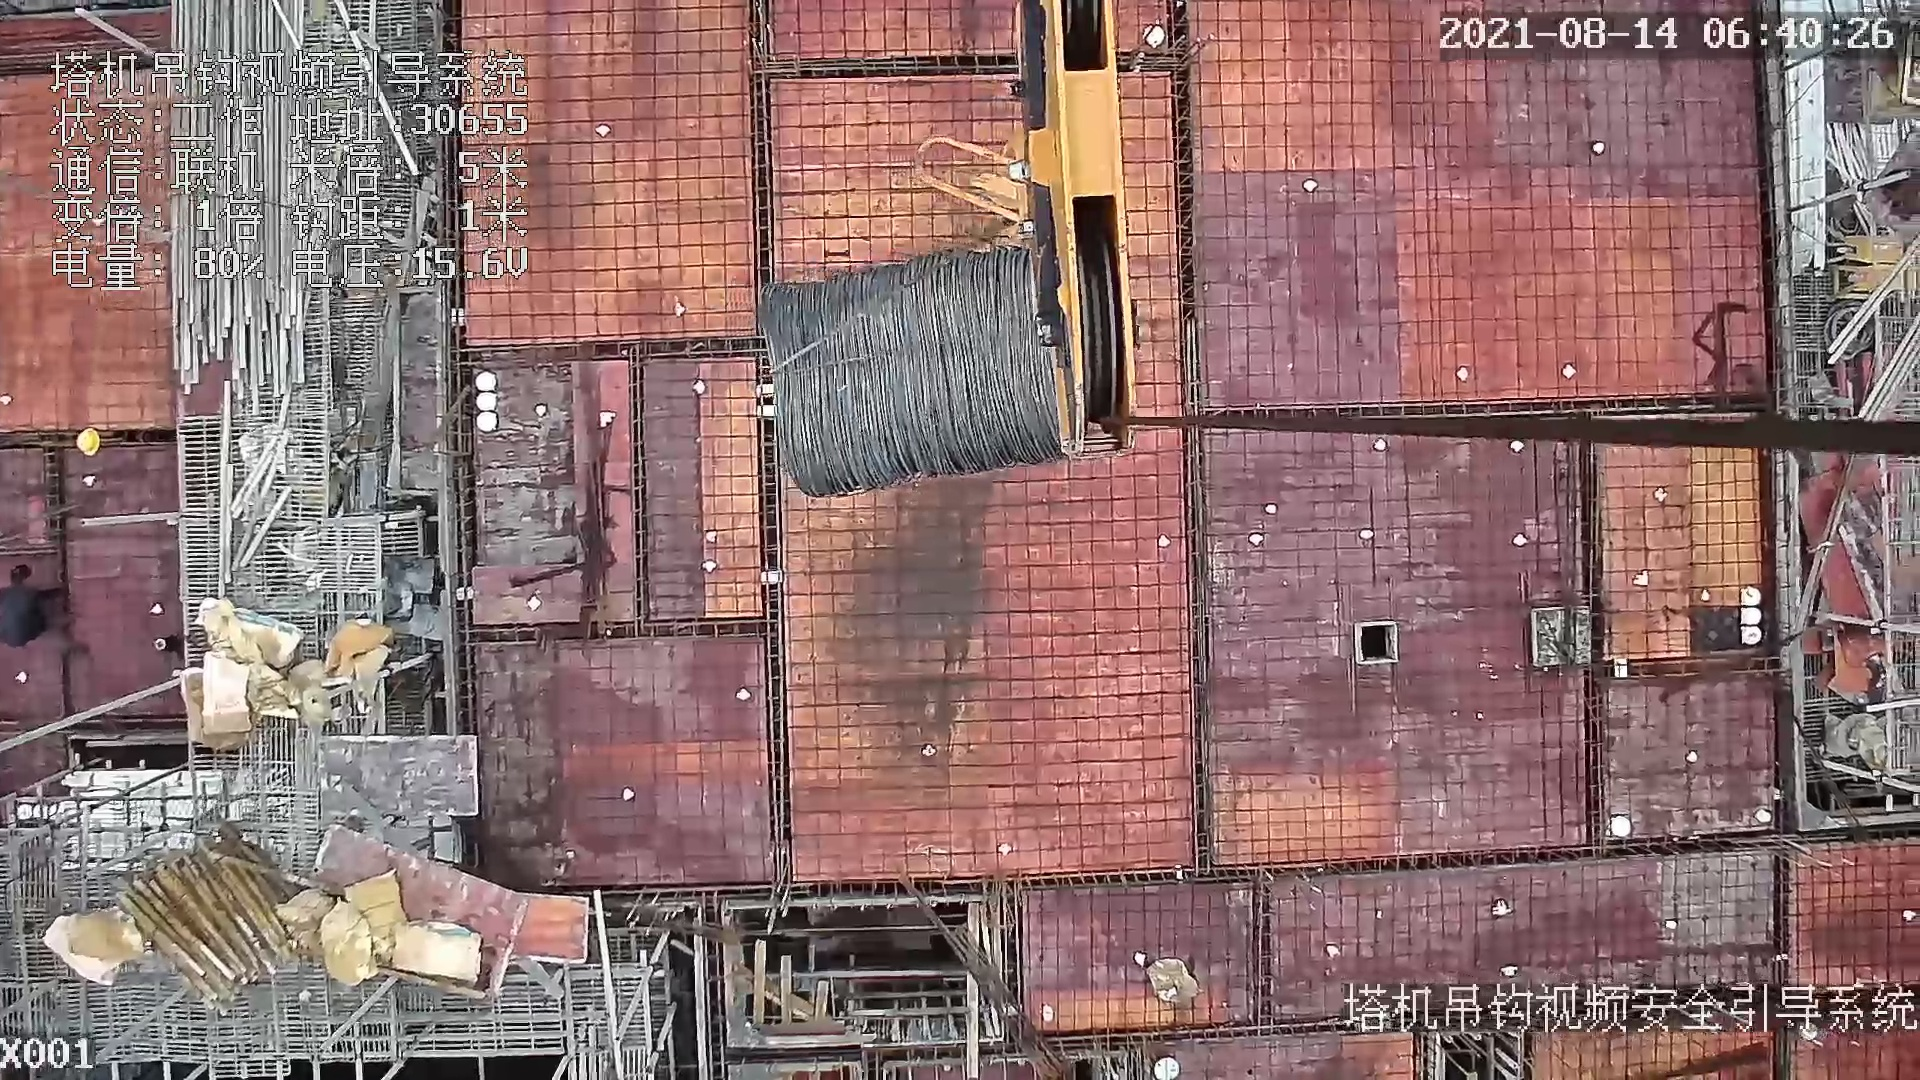helmet: (71, 427, 103, 458)
hook: (908, 1, 1144, 454)
person: (9, 549, 67, 660)
scaffold: (121, 830, 288, 1004)
